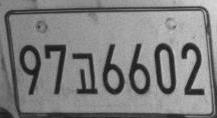0: (153, 42, 177, 95)
2: (180, 41, 205, 96)
6: (101, 43, 125, 95), (128, 43, 151, 95)
7: (43, 43, 67, 94)
9: (18, 44, 41, 96)
고: (71, 52, 99, 94)
